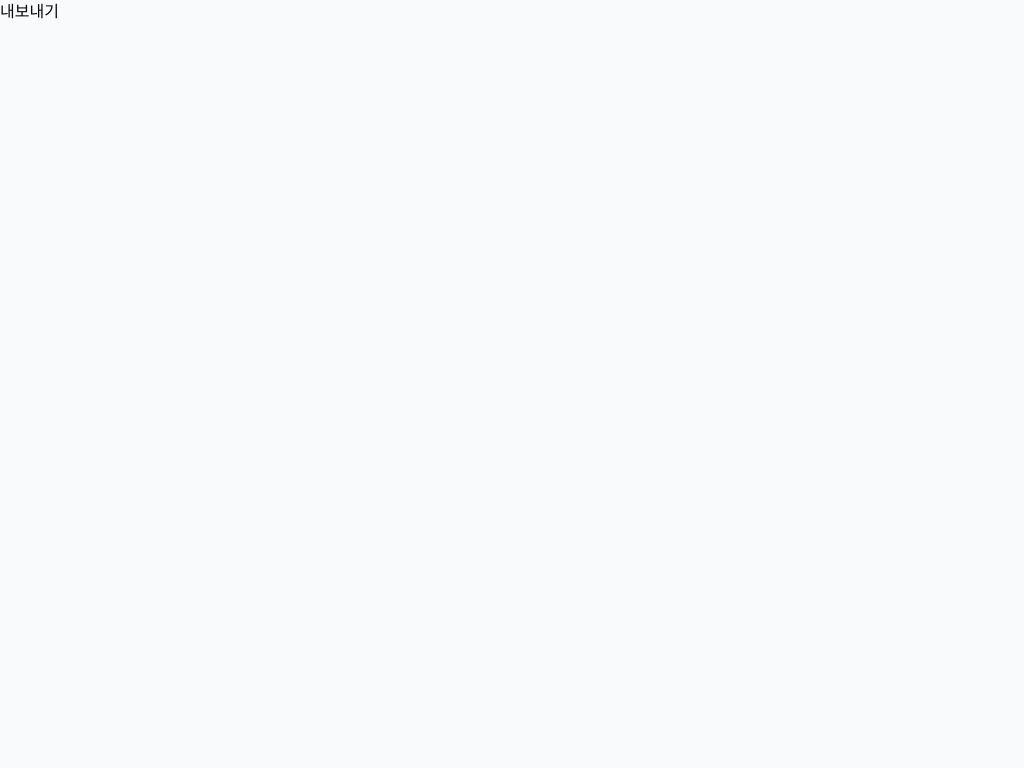
Test: [Story 7.1] ExportOptionsModal › [AC1] Modal Display › should open modal when trigger is clicked
Click trigger button
What coordinates should you click on to do the following:
click the button "내보내기"
I would click on:
 (29, 12)
Its box is [0,0,59,24].
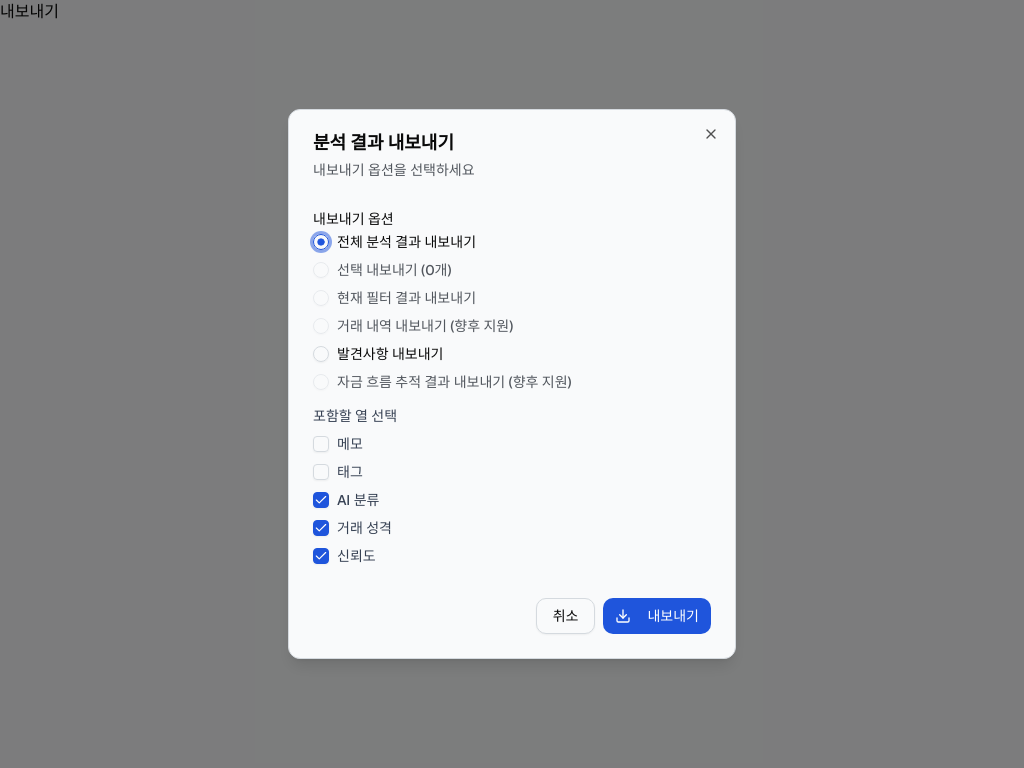
Check: the heading "분석 결과 내보내기" is shown, box [313,131,454,154]
